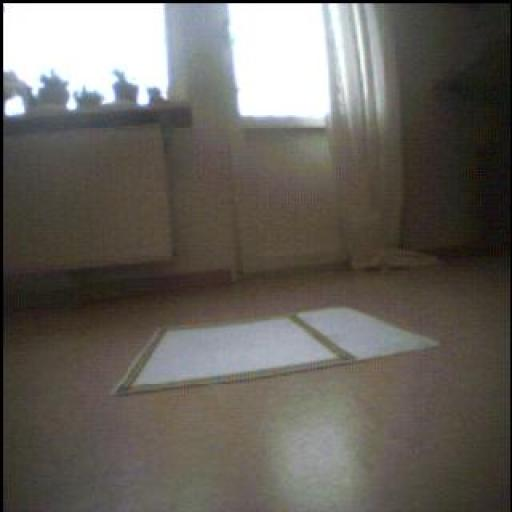Pad: (116, 308, 438, 396)
